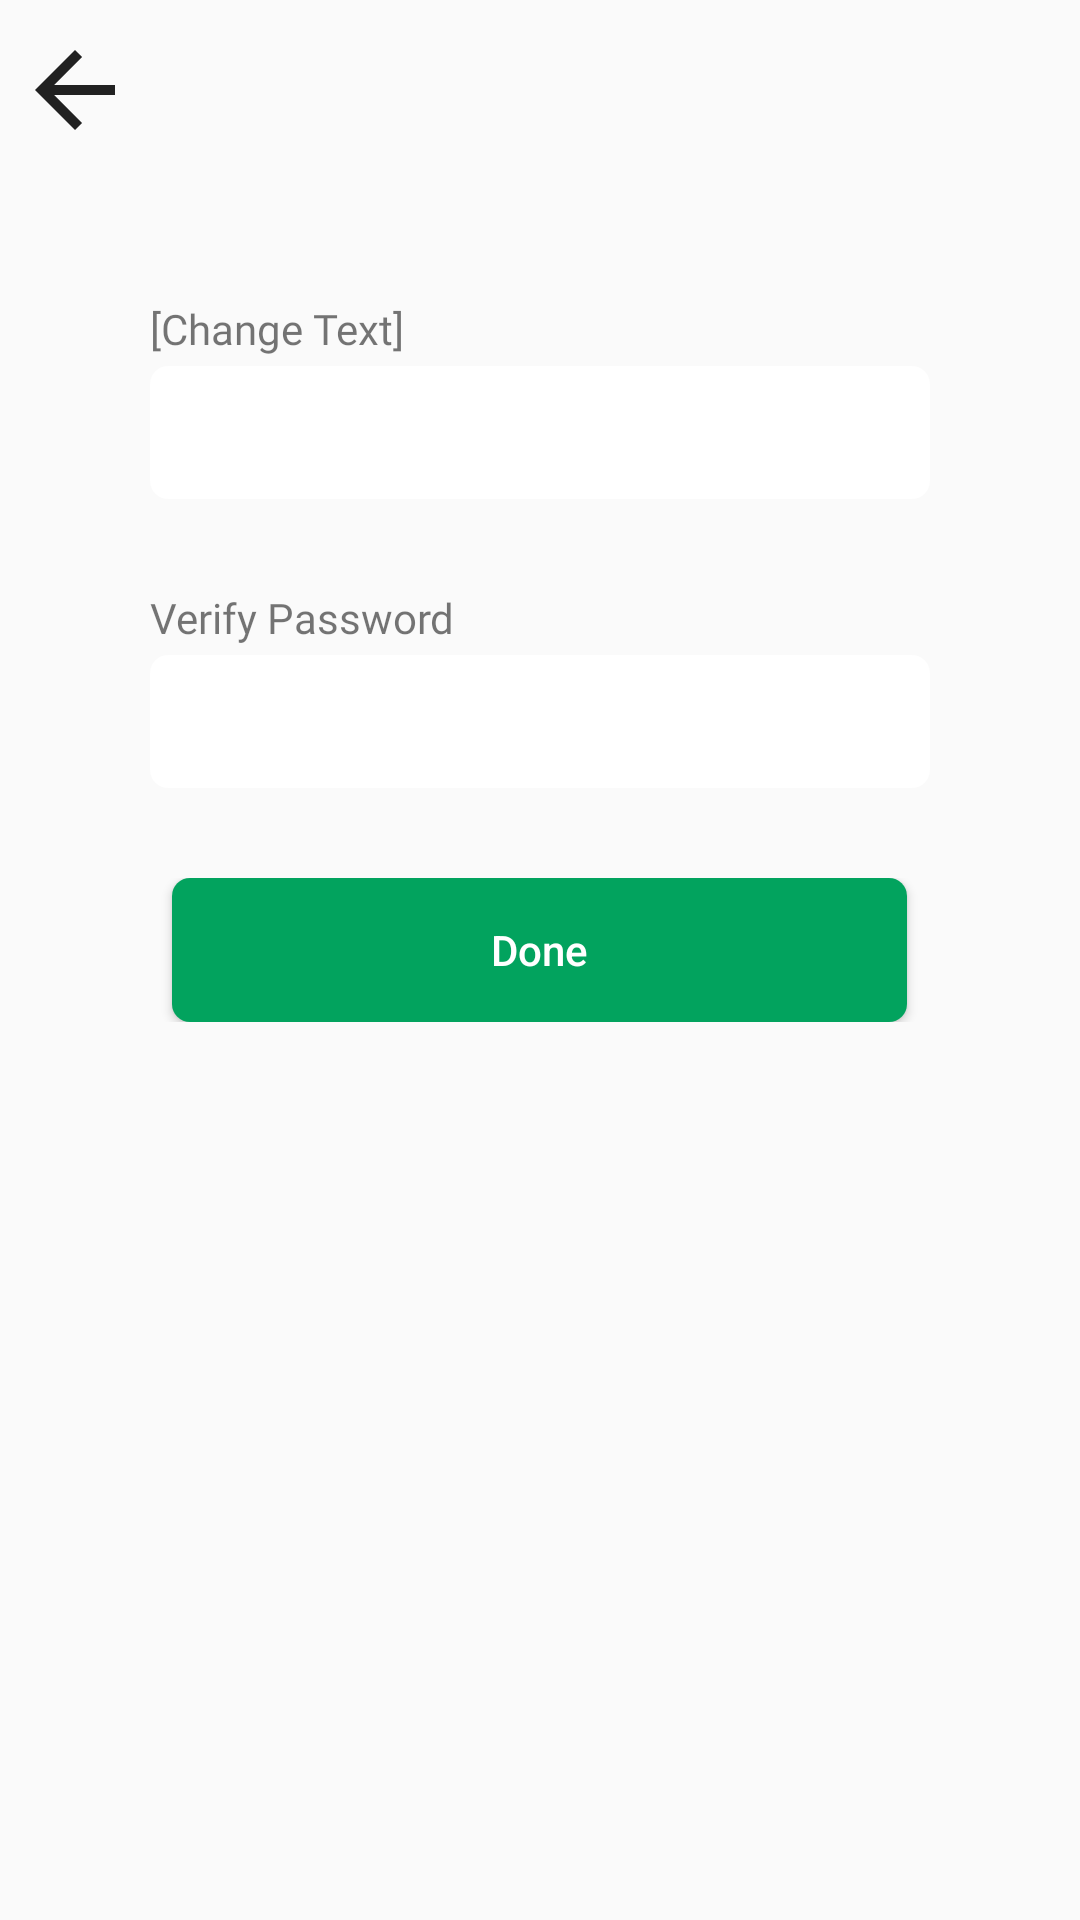

Icon click points for this 1080px×1920px phone screenshot, format [x,y]:
backarrow: [75,90]
